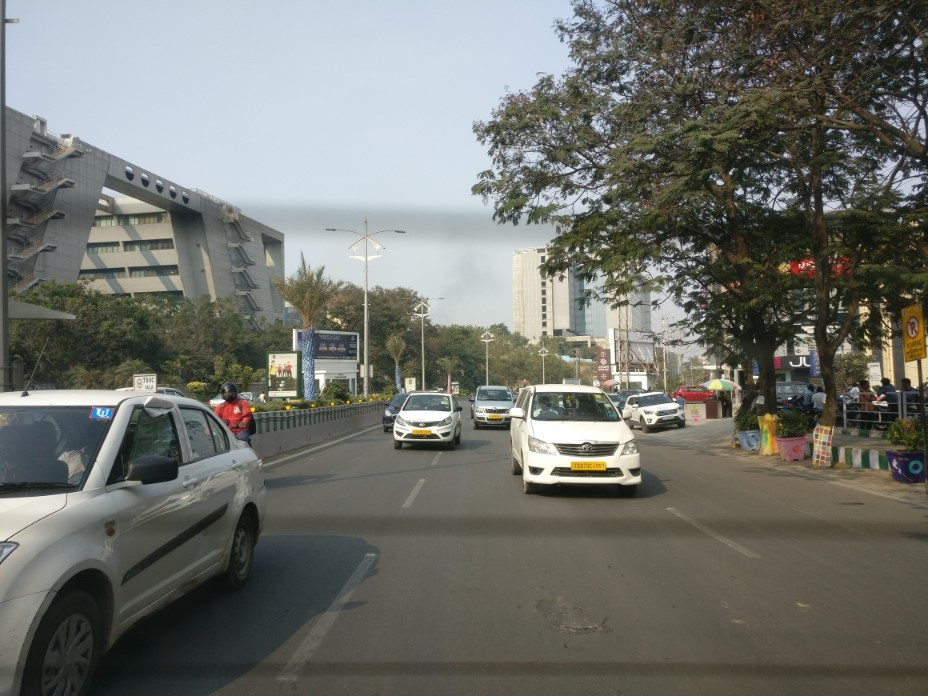swift desire: (1, 387, 269, 693)
